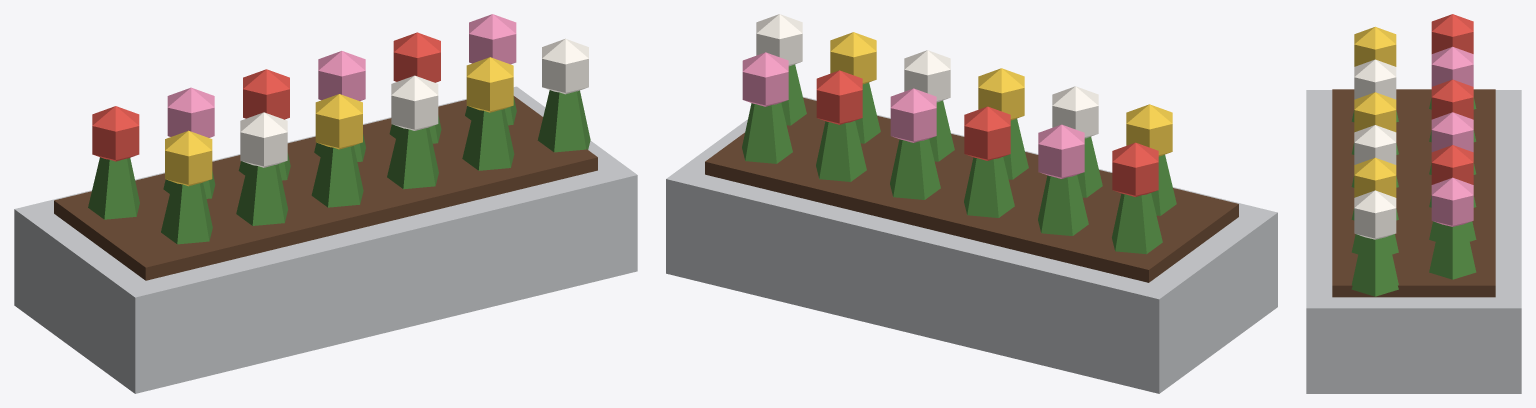
File: b-planter.glb
3 views of the same model, side by side, from view 1: azimuth 30°, elevation 25°; view 2: azimuth 150°, elevation 25°; view 3: azimuth 270°, elevation 25° (orthographic). The views are drawn at different scales.
Visible parts, largest first — view 1: b-planter; view 2: b-planter; view 3: b-planter.
Boxes of the visible parts, x1,y1,x2,y2 form: b-planter: (14,14,637,393); b-planter: (666,14,1277,393); b-planter: (1306,14,1521,393).
Size of the model in its own units: 1.2 by 0.485 by 0.5.
